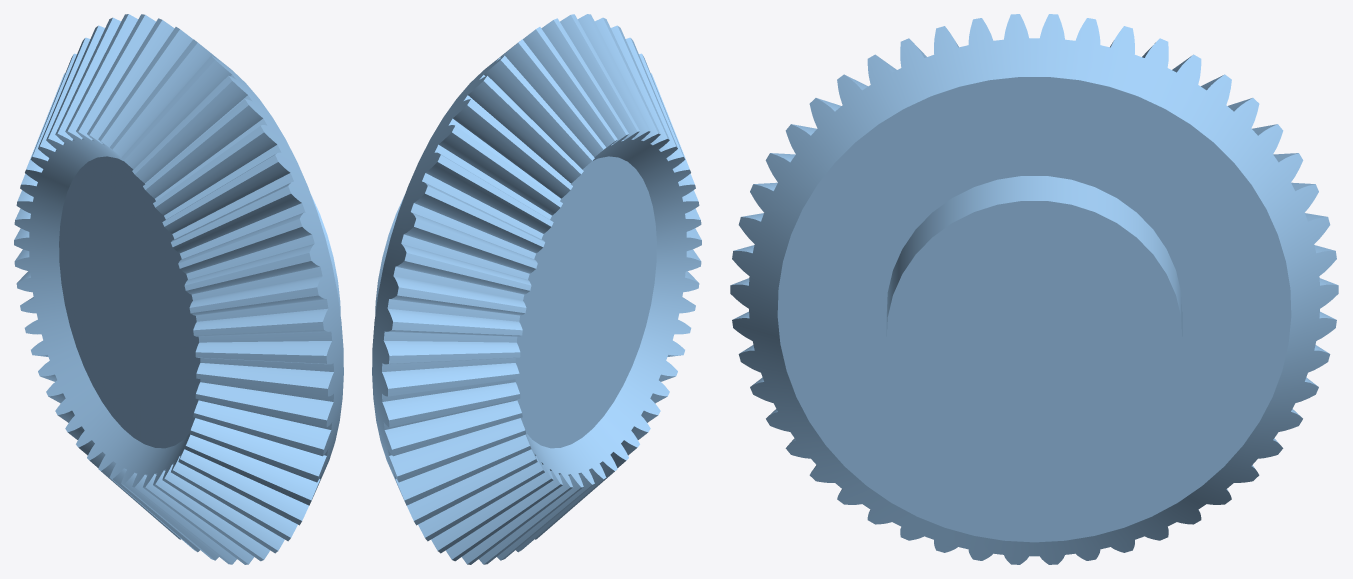
File: 2.3 Bevel Gear.glb
The picture shows the model from 3 angles, left to right: view 1: azimuth 30°, elevation 25°; view 2: azimuth 150°, elevation 25°; view 3: azimuth 270°, elevation 25°; orthographic projection. The views are drawn at different scales.
Visible parts, largest first — view 1: 零件3; view 2: 零件3; view 3: 零件3.
Boxes of the visible parts, bbox=[...] form: 零件3: bbox=[14, 14, 343, 564]; 零件3: bbox=[372, 14, 701, 564]; 零件3: bbox=[730, 14, 1338, 564].
Size of the model in its own units: 0.0352 by 0.1027 by 0.1028.
